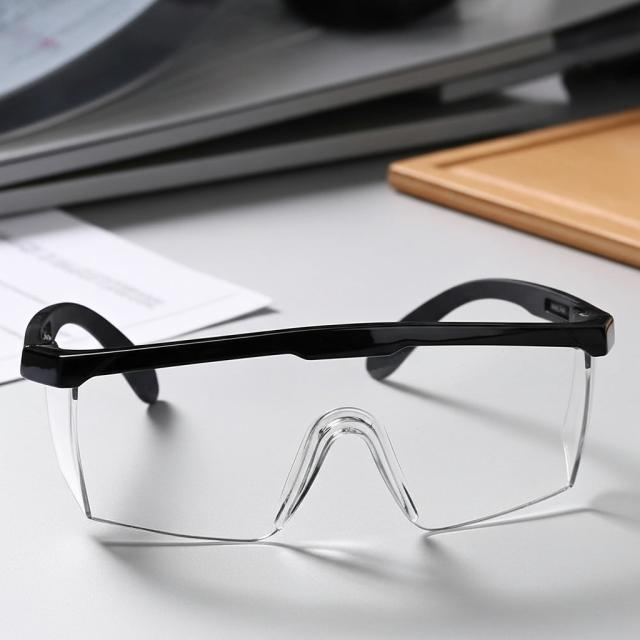oculos-epi: (21, 279, 614, 540)
